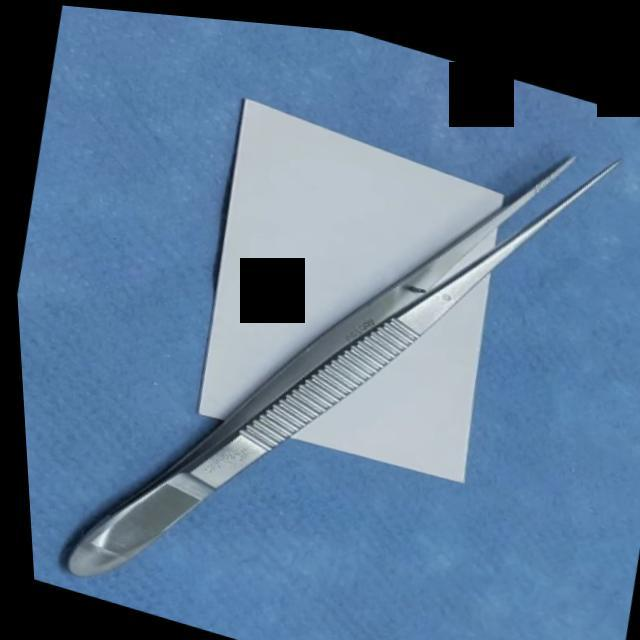Disscting Forceps -Plain-: (17, 1, 640, 640)
